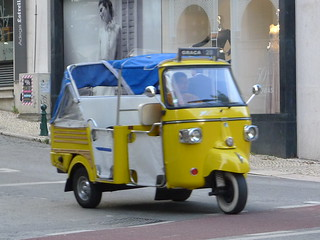threewheel: (48, 54, 262, 214)
